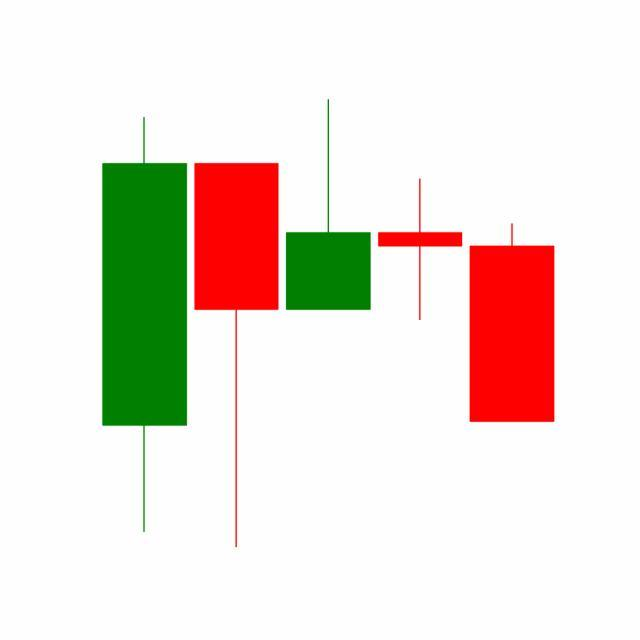Marubozu: (466, 221, 559, 424)
